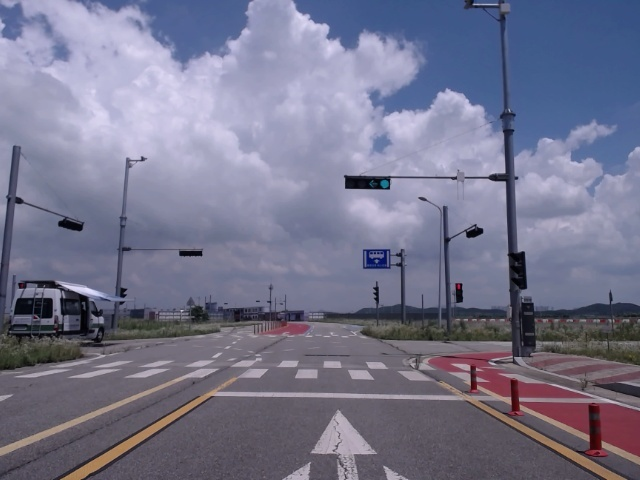all_green_4: (343, 174, 391, 188)
